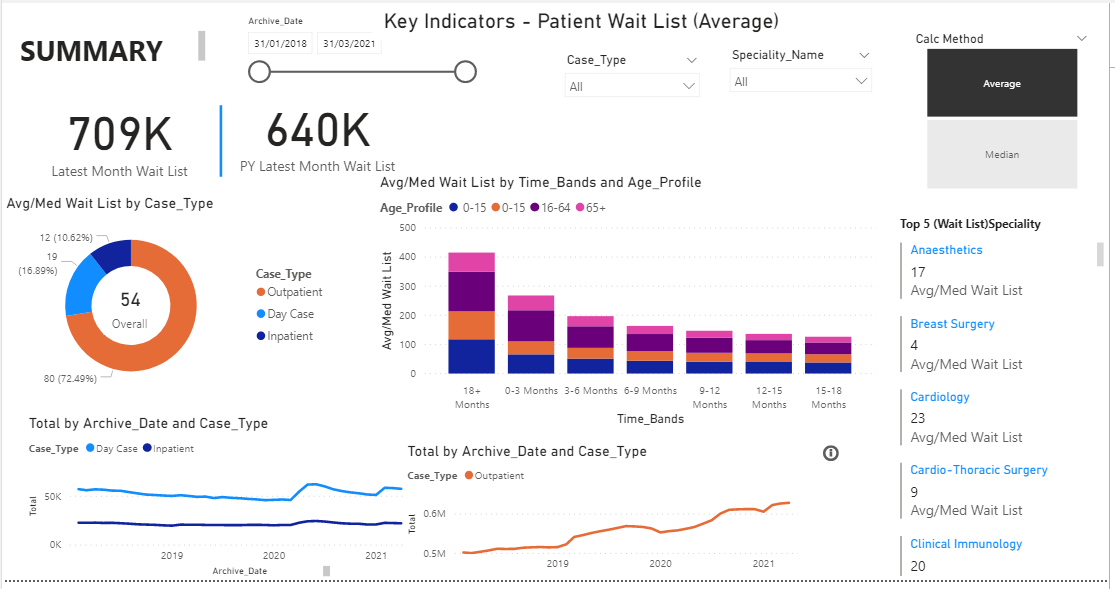

The dashboard page shown, as its layout file describes it:
{"tool":"powerbi","page":{"name":"SUMMARY","canvas":[1280,720],"ordinal":0},"visuals":[{"type":"card","fields":{"Values":["All_Data.PY Latest Month Wait List"]},"box":[253.1,130.2,224.2,143.2],"z":0},{"type":"card","fields":{"Values":["All_Data.Latest Month Wait List"]},"box":[0,151.9,271.9,111.4],"z":1000},{"type":"slicer","fields":{"Values":["Table.Calc Method"]},"box":[1044.2,79.5,224.2,193.8],"z":2000},{"type":"donutChart","fields":{"Category":["All_Data.Case_Type"],"Y":["All_Data.Avg/Med Wait List"]},"box":[0,273.4,384.7,238.6],"z":3000},{"type":"columnChart","fields":{"Y":["All_Data.Avg/Med Wait List"],"Category":["All_Data.Time_Bands"],"Series":["All_Data.Age_Profile"]},"box":[432.5,248.8,584.3,297.9],"z":4000},{"type":"multiRowCard","fields":{"Values":["All_Data.Specialty_Name","All_Data.Avg/Med Wait List"]},"box":[1034.1,324,245.9,396.3],"z":5000},{"type":"lineChart","fields":{"Category":["All_Data.Archive_Date"],"Y":["Sum(All_Data.Total)"],"Series":["All_Data.Case_Type"]},"box":[26,527.9,454.1,192.4],"z":6000},{"type":"lineChart","fields":{"Category":["All_Data.Archive_Date"],"Y":["Sum(All_Data.Total)"],"Series":["All_Data.Case_Type"]},"box":[464.3,559.7,464.3,160.5],"z":7000},{"type":"slicer","fields":{"Values":["All_Data.Archive_Date"]},"box":[271.9,60.7,287.8,112.8],"z":8000},{"type":"slicer","fields":{"Values":["All_Data.Case_Type"]},"box":[640.7,104.1,176.5,128.7],"z":9000},{"type":"slicer","fields":{"Values":["All_Data.Speciality_Name"]},"box":[831.6,98.4,185.1,78.1],"z":10000},{"type":"textbox","box":[16,80,224,48],"z":11000},{"type":"card","fields":{"Values":["All_Data.Avg/Med Wait List"]},"box":[117.2,371.7,62.2,63.6],"z":12000},{"type":"basicShape","box":[202.5,160.5,101.2,102.7],"z":13000},{"type":"card","fields":{"Values":["All_Data.Dynamic Title"]},"box":[428.1,47.7,484.5,47.7],"z":14000},{"type":"textbox","box":[365.9,698.6,18.8,21.7],"z":15000},{"type":"textbox","box":[1034.1,293.6,177.9,30.4],"z":16000},{"type":"actionButton","box":[0,0,100,40],"z":17000},{"type":"actionButton","box":[0,0,100,40],"z":18000},{"type":"actionButton","box":[0,0,100,40],"z":19000},{"type":"actionButton","box":[0,0,100,40],"z":20000},{"type":"actionButton","box":[945.9,559.7,33.3,26],"z":21000}]}

Visuals, with their boxes on the page's 1280x720 design canvas (x1, y1, x2, y2). These are canvas units, not pixel positions in the 1115x589 screenshot, which may show the page scaled, cropped or inside an application window:
card - All_Data.PY Latest Month Wait List: (left=253, top=130, right=477, bottom=273)
card - All_Data.Latest Month Wait List: (left=0, top=152, right=272, bottom=263)
slicer - Table.Calc Method: (left=1044, top=80, right=1268, bottom=273)
donutChart - All_Data.Case_Type x All_Data.Avg/Med Wait List: (left=0, top=273, right=385, bottom=512)
columnChart - All_Data.Avg/Med Wait List x All_Data.Time_Bands: (left=432, top=249, right=1017, bottom=547)
multiRowCard - All_Data.Specialty_Name x All_Data.Avg/Med Wait List: (left=1034, top=324, right=1280, bottom=720)
lineChart - All_Data.Archive_Date x Sum(All_Data.Total): (left=26, top=528, right=480, bottom=720)
lineChart - All_Data.Archive_Date x Sum(All_Data.Total): (left=464, top=560, right=929, bottom=720)
slicer - All_Data.Archive_Date: (left=272, top=61, right=560, bottom=174)
slicer - All_Data.Case_Type: (left=641, top=104, right=817, bottom=233)
slicer - All_Data.Speciality_Name: (left=832, top=98, right=1017, bottom=176)
textbox: (left=16, top=80, right=240, bottom=128)
card - All_Data.Avg/Med Wait List: (left=117, top=372, right=179, bottom=435)
basicShape: (left=202, top=160, right=304, bottom=263)
card - All_Data.Dynamic Title: (left=428, top=48, right=913, bottom=95)
textbox: (left=366, top=699, right=385, bottom=720)
textbox: (left=1034, top=294, right=1212, bottom=324)
actionButton: (left=0, top=0, right=100, bottom=40)
actionButton: (left=0, top=0, right=100, bottom=40)
actionButton: (left=0, top=0, right=100, bottom=40)
actionButton: (left=0, top=0, right=100, bottom=40)
actionButton: (left=946, top=560, right=979, bottom=586)
